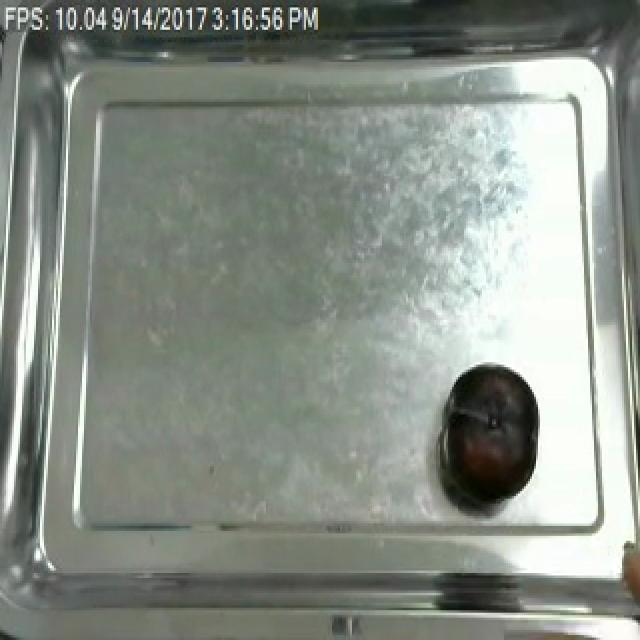Fruit: (436, 359, 540, 508)
